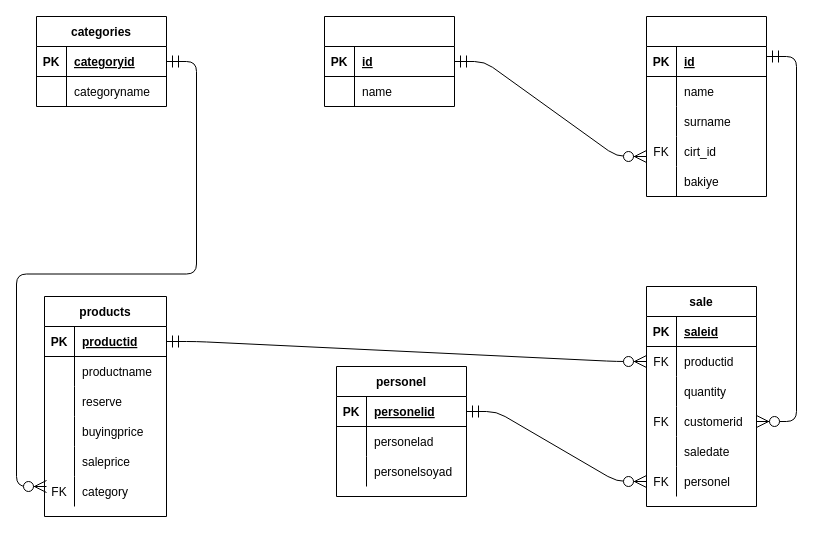
Some shapes in this 813 by 533 pixel diagram are drawn without their labels. Here are the shapes that lost their labels. From the top down, the box of each, then its label:
(324, 16, 454, 106): city
(646, 16, 766, 196): customer
